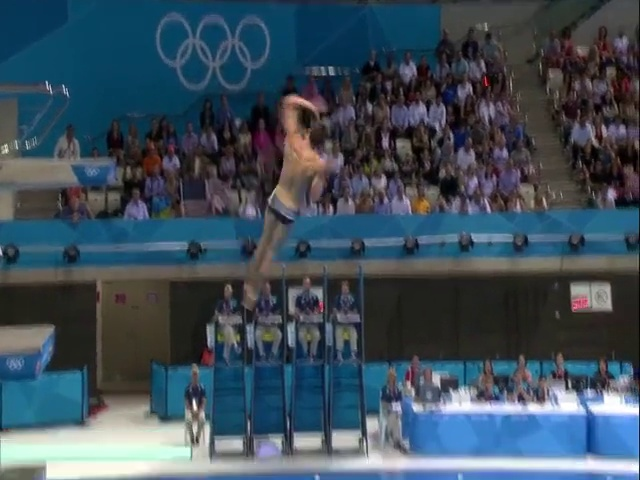diver: (241, 94, 333, 302)
